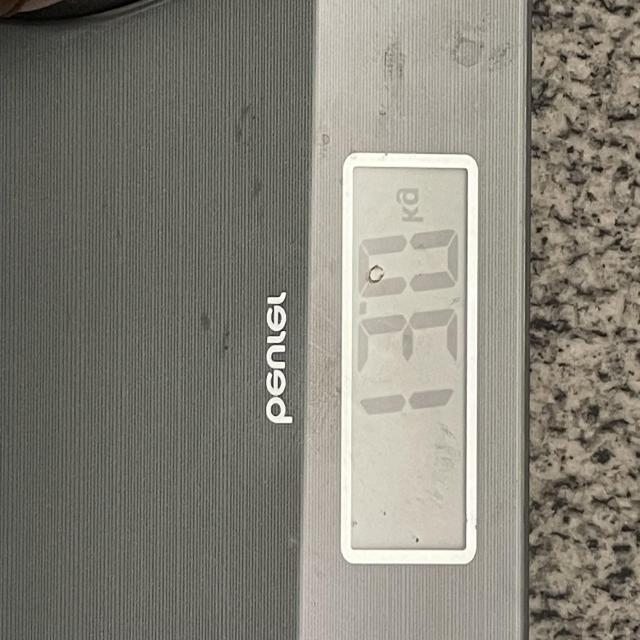ws: (307, 153, 523, 640)
